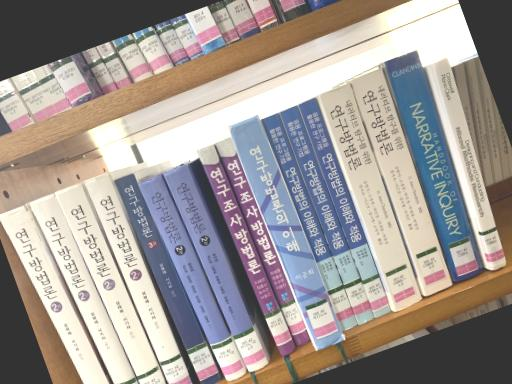book-spine: (227, 113, 345, 351), (319, 82, 423, 312), (350, 67, 453, 296), (84, 171, 194, 384), (114, 172, 222, 384), (384, 49, 483, 280), (55, 183, 167, 384), (139, 173, 246, 380), (163, 163, 269, 371), (29, 193, 141, 384), (261, 112, 358, 331), (197, 143, 296, 357), (298, 97, 391, 318), (280, 104, 373, 324), (215, 137, 310, 345), (0, 205, 110, 384), (431, 57, 506, 269)
